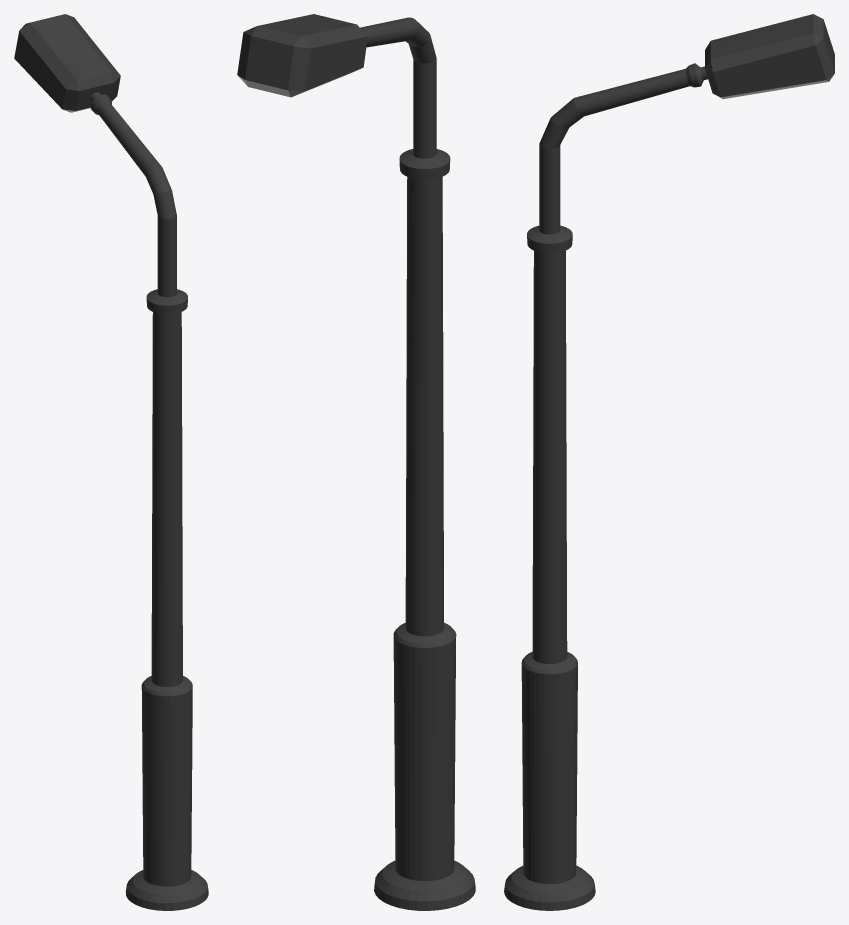
File: construcoes.fbx
3 views of the same model, side by side, from view 1: azimuth 30°, elevation 25°; view 2: azimuth 150°, elevation 25°; view 3: azimuth 270°, elevation 25° (orthographic). The views are drawn at different scales.
Parts seen in each view (by area): view 1: Cylinder, luz; view 2: Cylinder, luz; view 3: Cylinder, luz.
Part boxes in pixels (<box>): Cylinder: <box>90,92,208,910</box>; luz: <box>14,14,120,112</box>; Cylinder: <box>360,17,475,910</box>; luz: <box>237,14,367,97</box>; Cylinder: <box>504,63,707,910</box>; luz: <box>705,14,834,99</box>.
Bounding box in the file's own units: 79.07 × 826 × 285.
Materials: 1 (1 with a texture image).
